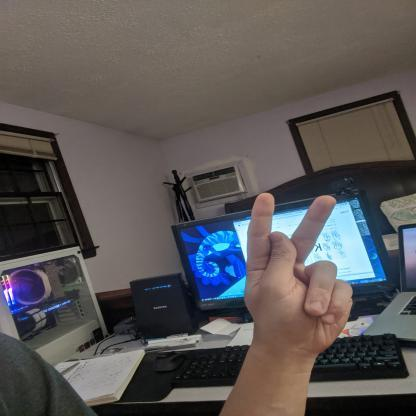K: (235, 189, 359, 360)
